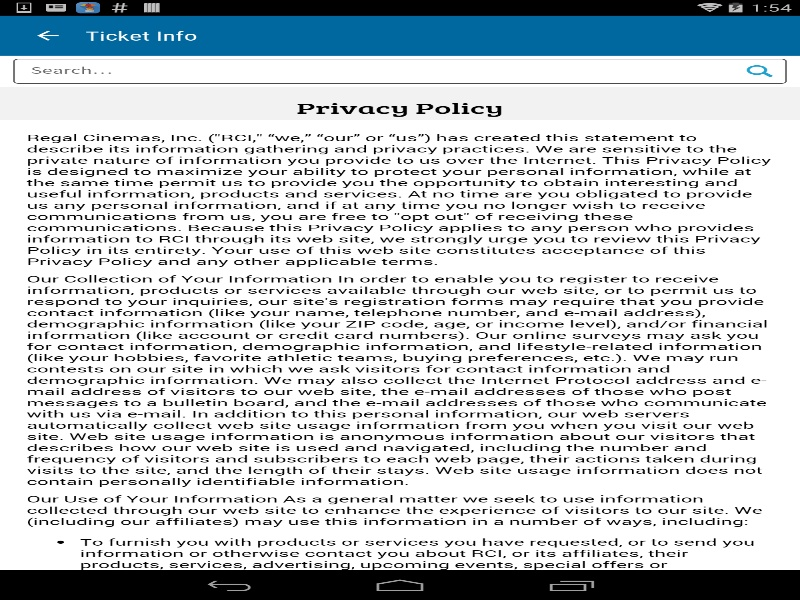Button: (10, 15, 85, 55), (6, 58, 65, 83), (734, 58, 793, 83), (733, 58, 786, 83)
Input: (13, 58, 786, 83)
